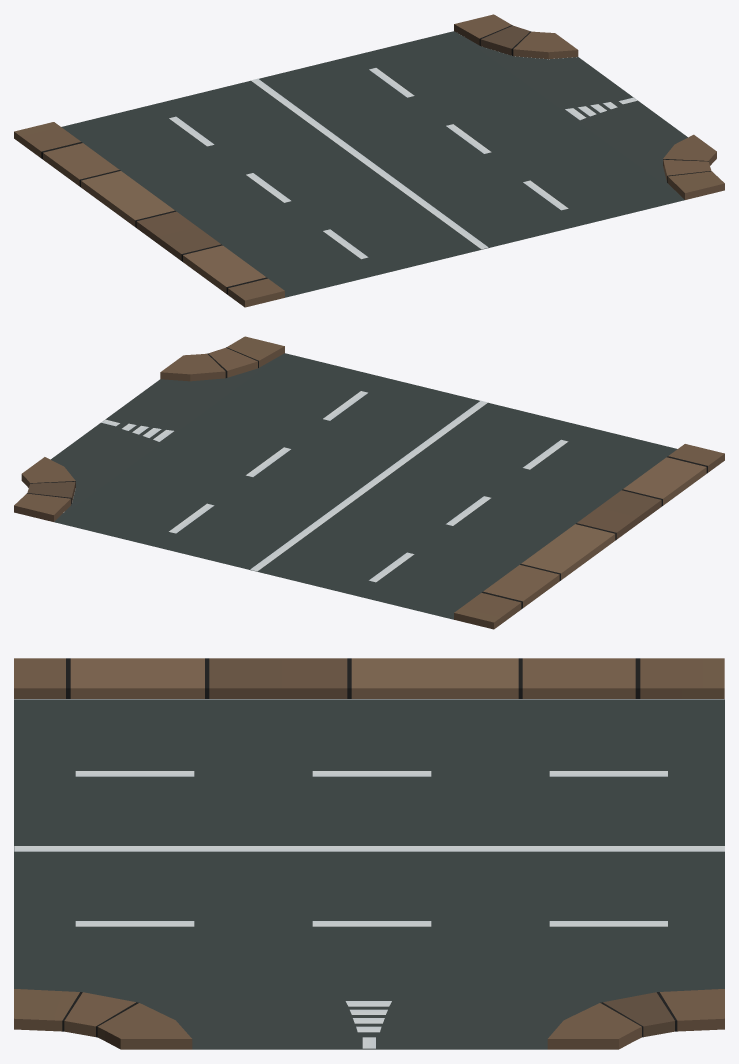
File: Road_1_203.fbx
3 views of the same model, one above another, from view 1: azimuth 30°, elevation 25°; view 2: azimuth 150°, elevation 25°; view 3: azimuth 270°, elevation 25° (orthographic). The views are drawn at different scales.
Parts seen in each view (by area): view 1: Road_1_203; view 2: Road_1_203; view 3: Road_1_203.
Boxes of the visible parts, x1=… form: Road_1_203: x1=14, y1=14, x2=724, y2=307; Road_1_203: x1=14, y1=336, x2=724, y2=629; Road_1_203: x1=14, y1=658, x2=724, y2=1049.
Bounding box in the file's own units: 2280 × 30 × 1800.
